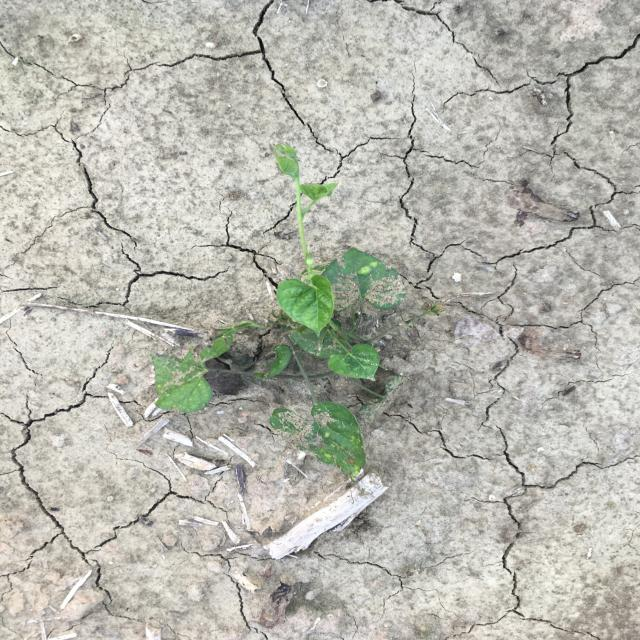MorningGlory: (150, 140, 446, 485)
